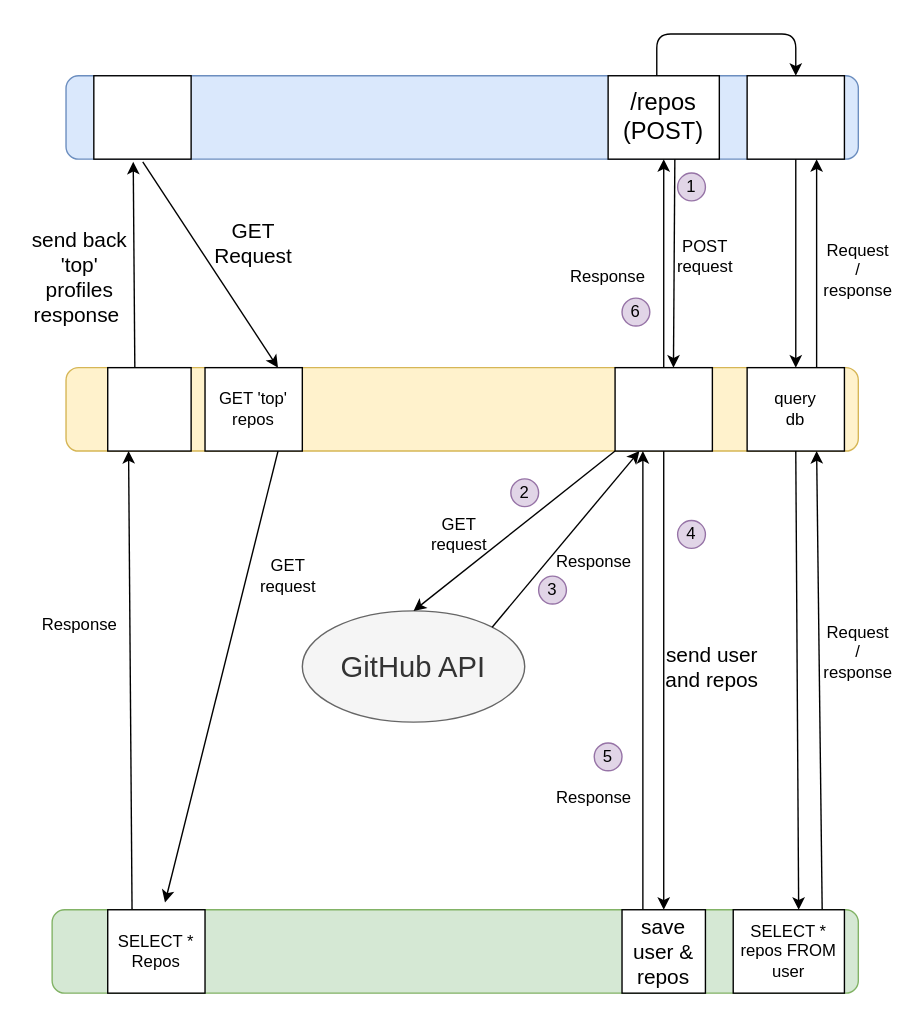
This 916x1017 diagram has some shape labels left out. The shapes that lost their labels are listed below. From the top down, each one's box as (x1, y1, x2, y2) in pixels, then its label:
(92, 74, 191, 159): / (GET)
(65, 74, 858, 159): Client
(746, 74, 844, 159): /repos (GET)
(106, 366, 191, 451): Logic for 'top' repos
(65, 366, 858, 451): Server
(614, 366, 712, 451): GET repos at user
(51, 908, 858, 993): Database
